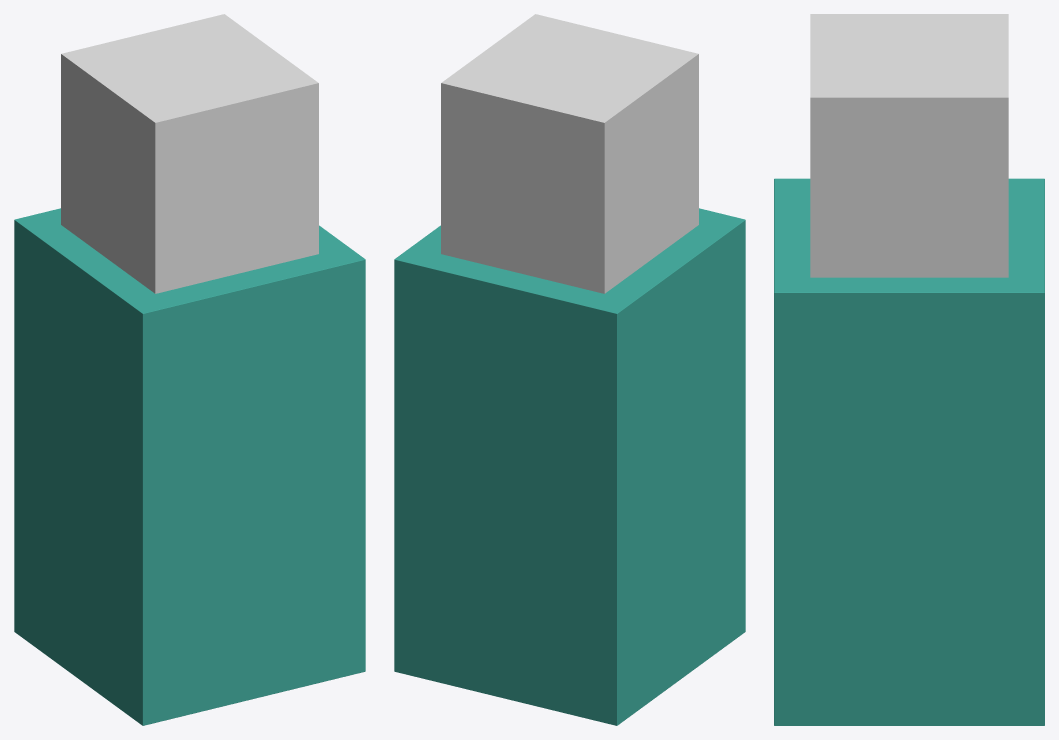
File: cube_turquoise.glb
The picture shows the model from 3 angles, left to right: view 1: azimuth 30°, elevation 25°; view 2: azimuth 150°, elevation 25°; view 3: azimuth 270°, elevation 25°; orthographic projection. The views are drawn at different scales.
Visible parts, largest first — view 1: Cube, placeholder; view 2: Cube, placeholder; view 3: Cube, placeholder.
Boxes of the visible parts, x1,y1,x2,y2 form: Cube: (14,208,365,725); placeholder: (61,14,318,293); Cube: (394,208,745,725); placeholder: (441,14,698,293); Cube: (774,178,1044,725); placeholder: (810,14,1008,277).
Size of the model in its own units: 2 by 5 by 2.
